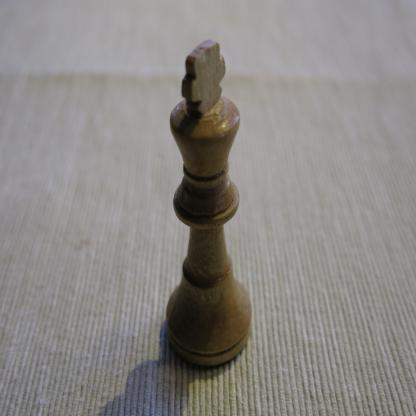white-king: (165, 39, 253, 370)
